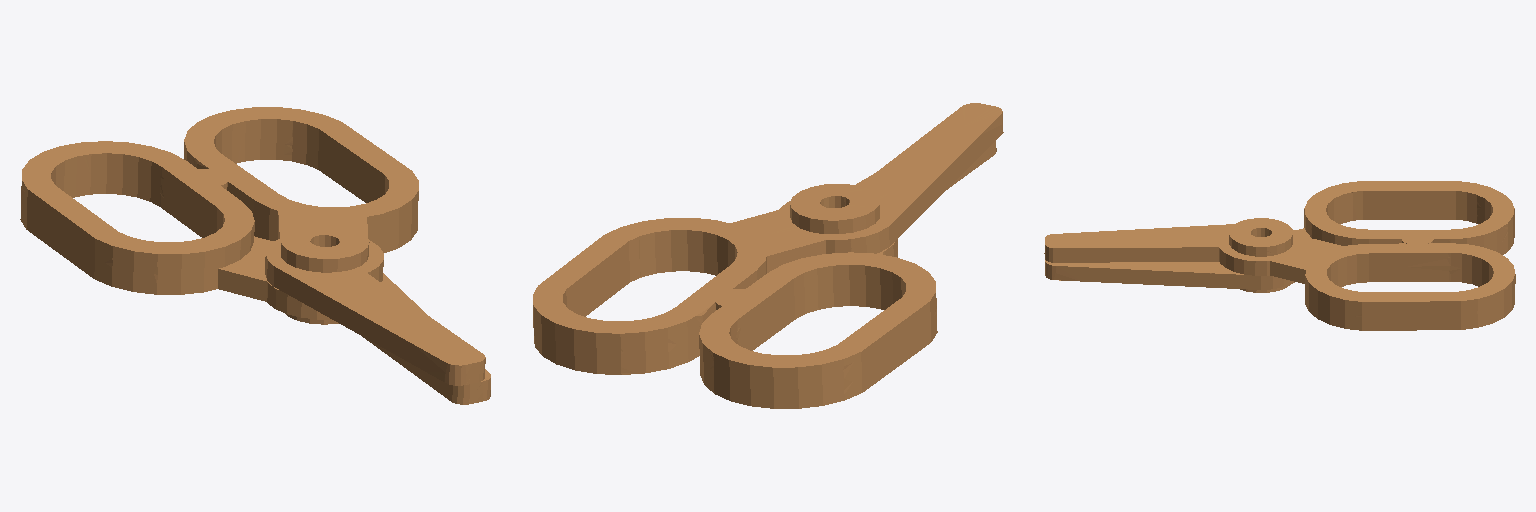
URDF robot description (Scissors):
<?xml version="1.0"?>
                <robot name="Scissors">
                <link name="base_link">
                    <visual>
                    <geometry>
                        <mesh filename="top_watertight_tiny.stl" scale="1.0 1.0 1.0"/>
                    </geometry>
                    <material name="object_material">
                        <color rgba="0.8 0.6 0.4 1.0"/>
                    </material>
                    </visual>
                    <collision>
                    <geometry>
                        <mesh filename="top_watertight_tiny.stl" scale="1.0 1.0 1.0"/>
                    </geometry>
                    </collision>
                    <inertial>
                    <mass value="1.0"/>
                    <inertia ixx="1.0" ixy="0.0" ixz="0.0" iyy="1.0" iyz="0.0" izz="1.0"/>
                    </inertial>
                </link>
                </robot>

--- Render facts (derived) ---
3 views of the same robot in one strip: view 1: azimuth 30°, elevation 25°; view 2: azimuth 150°, elevation 25°; view 3: azimuth 270°, elevation 25° (orthographic).
Robot: Scissors — 1 links, 0 joints (none); root link base_link; default pose: every joint at zero.
Visible links, largest first — view 1: base_link; view 2: base_link; view 3: base_link.
Boxes of the visible links, <box> form: base_link: <box>20,107,490,404</box>; base_link: <box>533,103,1003,408</box>; base_link: <box>1044,181,1515,330</box>.
Bounding box of the posed robot: 0.0741 × 0.13 × 0.0147 m (x, y, z).
1 mesh visuals loaded from 1 distinct referenced files (1 binary STL).